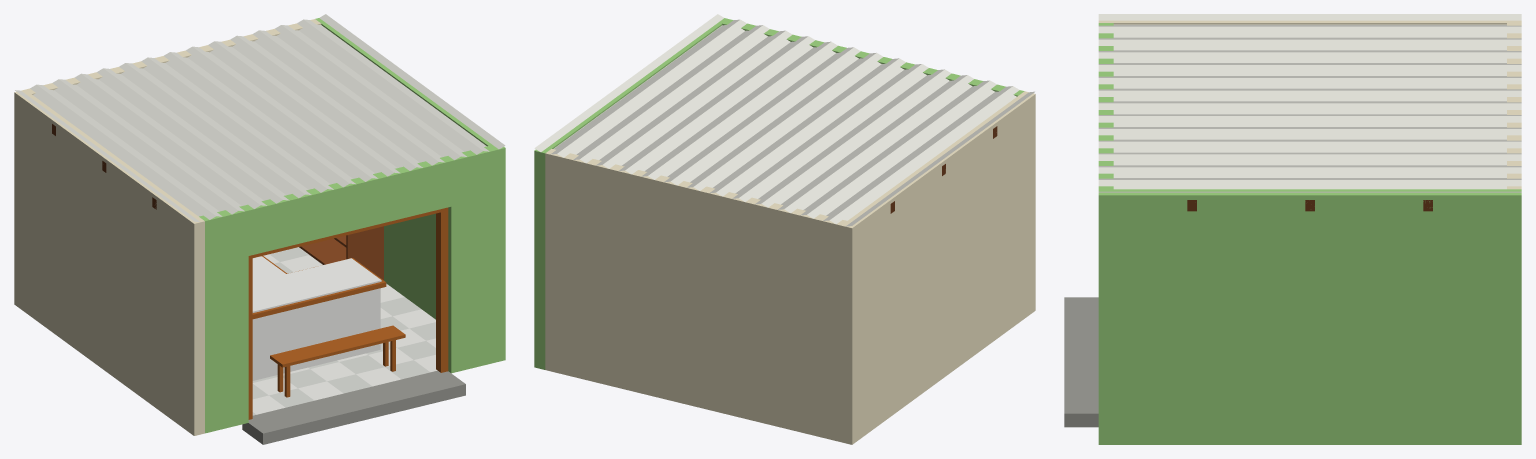
File: warkop.fbx
3 renders of one model, left to right at view 1: azimuth 30°, elevation 25°; view 2: azimuth 150°, elevation 25°; view 3: azimuth 270°, elevation 25°, orthographic. The views are drawn at different scales.
Parts seen in each view (by area): view 1: Ceiling_Roof, Wall_Left, Wall_Front_Header, Wall_Front_R, Wall_Front_L, Floor_Tiles, Wall_Right, Step_Front, Counter_Base, Counter_Top, Post_R, Bench_Front_Seat (+6 smaller); view 2: Wall_Back, Ceiling_Roof, Wall_Left, Wall_Right, Wall_Front_Header; view 3: Wall_Right, Ceiling_Roof, Step_Front, Wall_Left, Wall_Back, Wall_Front_Header.
Part boxes in pixels (x1,y1,x2,y2): Ceiling_Roof: [15, 14, 505, 222]; Wall_Left: [14, 89, 204, 435]; Wall_Front_Header: [242, 156, 451, 255]; Wall_Front_R: [445, 146, 494, 373]; Wall_Front_L: [199, 206, 248, 433]; Floor_Tiles: [252, 247, 437, 415]; Wall_Right: [315, 18, 505, 362]; Step_Front: [242, 370, 465, 444]; Counter_Base: [252, 288, 380, 380]; Counter_Top: [252, 256, 381, 312]; Post_R: [436, 210, 448, 372]; Bench_Front_Seat: [270, 325, 405, 367]; Wall_Back: [545, 149, 846, 441]; Ceiling_Roof: [534, 14, 1034, 226]; Wall_Left: [841, 91, 1035, 444]; Wall_Right: [534, 18, 728, 369]; Wall_Front_Header: [767, 30, 979, 86]; Wall_Right: [1098, 189, 1521, 444]; Ceiling_Roof: [1098, 14, 1521, 192]; Step_Front: [1064, 297, 1098, 427]; Wall_Left: [1098, 20, 1521, 24]; Wall_Back: [1507, 23, 1521, 189]; Wall_Front_Header: [1098, 48, 1113, 164].
Bounding box in the file's own units: 430 × 298 × 465.
